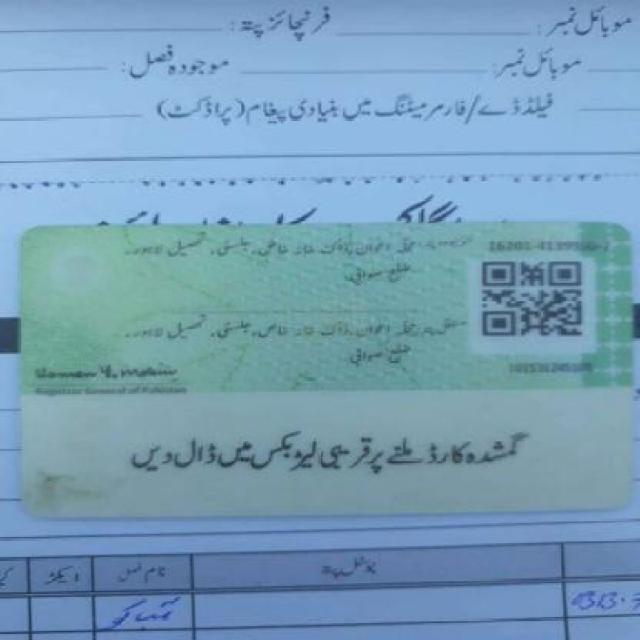Back: (11, 218, 637, 520)
